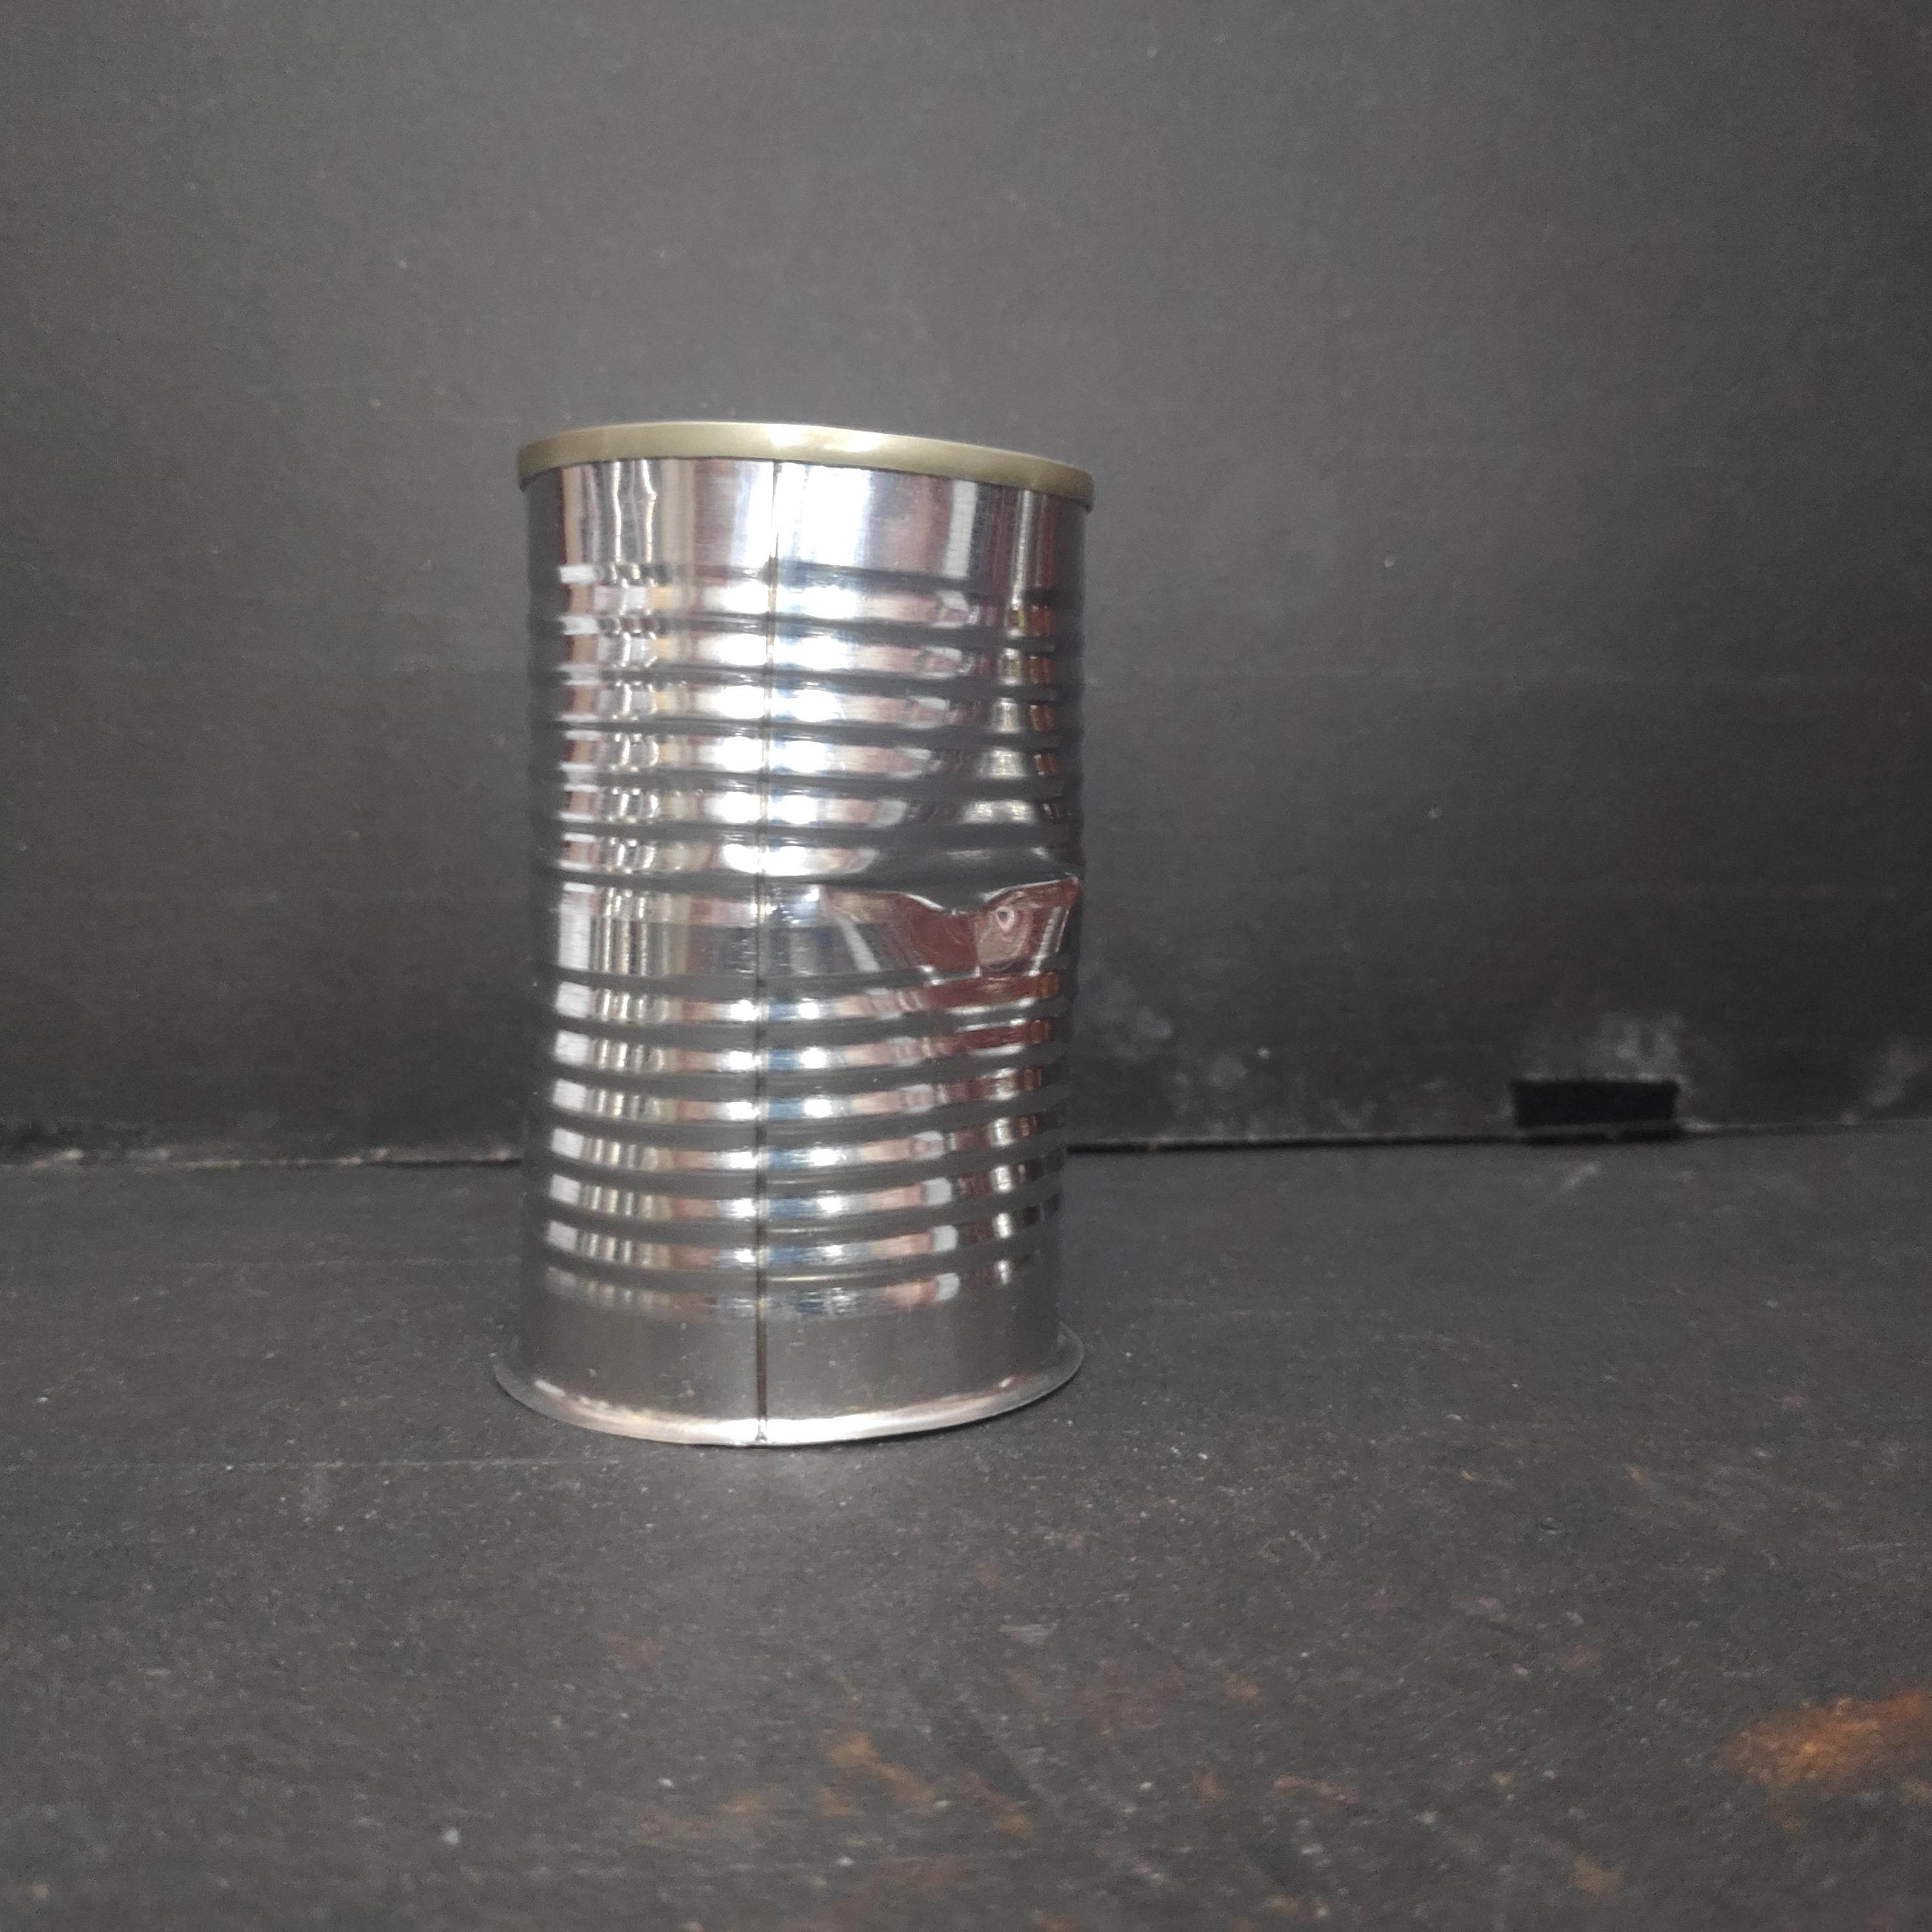Minor Defect: (483, 405, 1113, 1465)
